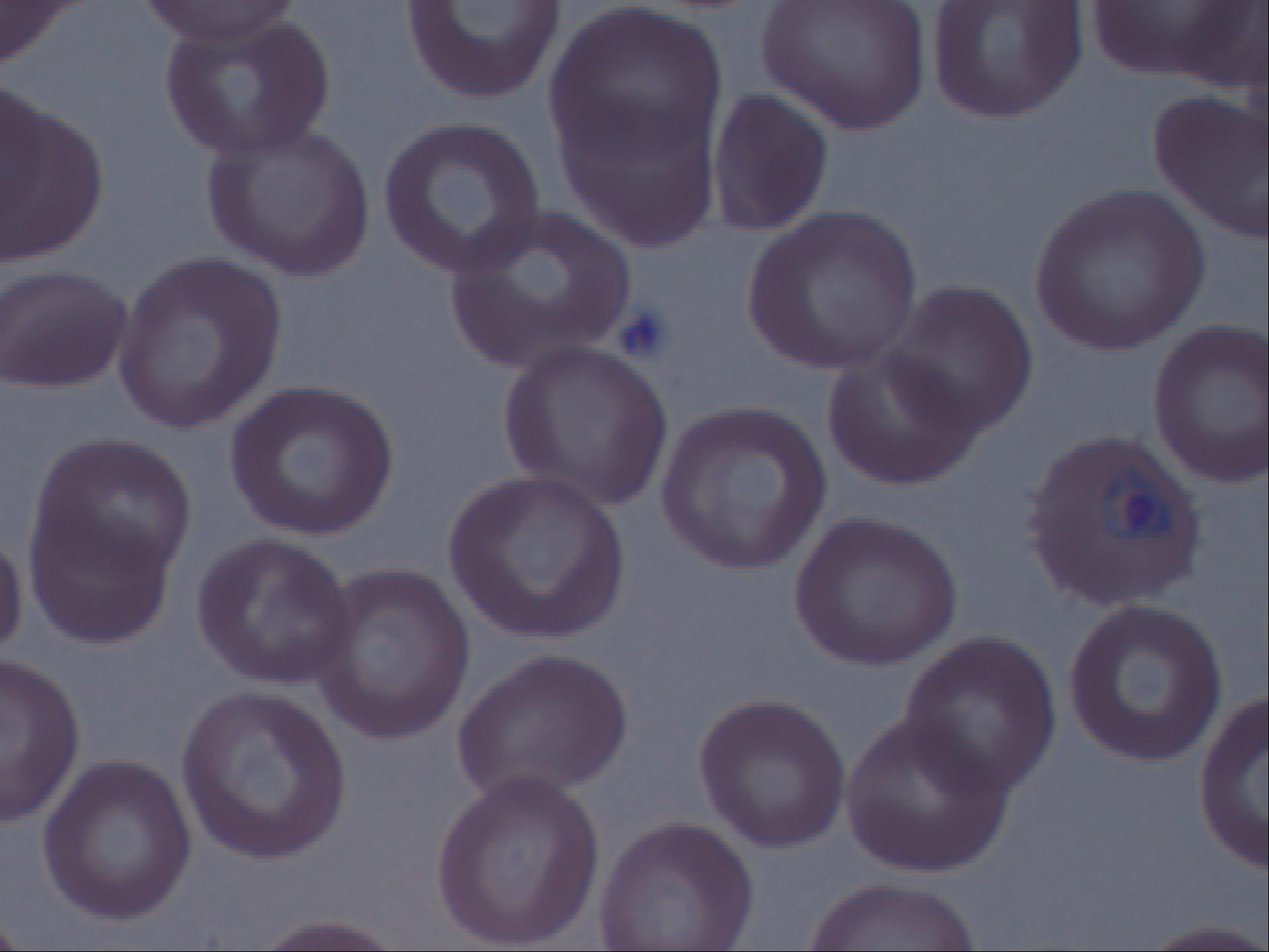Infected: (1028, 439, 1196, 602)
Uninfected: (453, 205, 636, 362), (453, 482, 625, 634), (123, 260, 278, 421), (1035, 194, 1199, 346), (184, 697, 341, 854), (555, 12, 712, 168), (661, 412, 824, 562), (751, 213, 912, 363), (440, 785, 598, 937), (319, 575, 469, 733), (231, 386, 392, 530), (845, 729, 1011, 867), (904, 640, 1054, 791), (506, 349, 662, 494), (795, 522, 951, 662), (886, 288, 1032, 437), (44, 762, 189, 910), (460, 660, 623, 790), (208, 141, 366, 275), (389, 124, 540, 264), (1075, 610, 1221, 754), (562, 115, 718, 245), (700, 704, 845, 842), (764, 1, 919, 128), (202, 543, 345, 678), (829, 357, 983, 481), (171, 28, 324, 152), (30, 511, 173, 640), (602, 828, 746, 949), (1155, 334, 1266, 472), (712, 93, 827, 226), (938, 1, 1073, 112), (2, 274, 124, 388)
